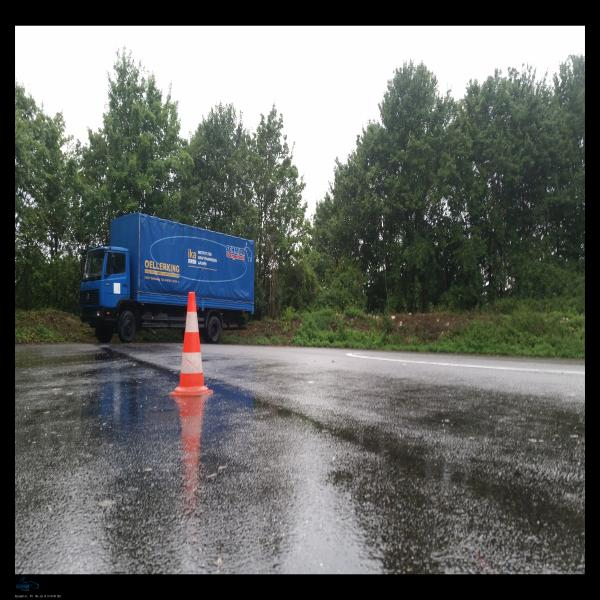large_orange_cone: (169, 292, 213, 396)
